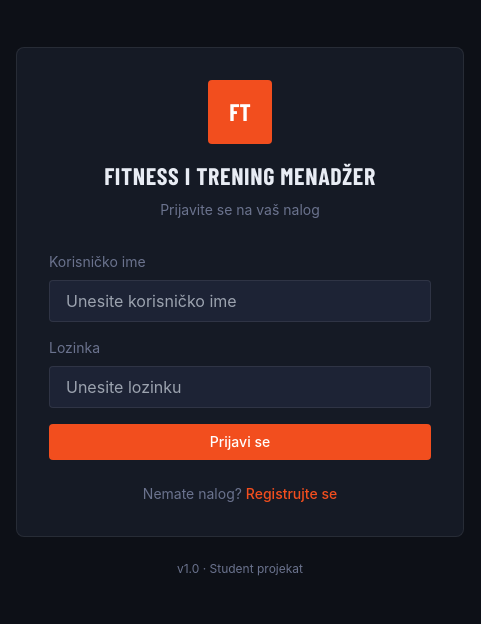
Login Page › shows error message when login fails
The width and height of the screenshot is (481, 624).
Type "testuser" into the field with placeholder "Unesite korisničko ime" at coordinates (240, 301), box [49, 280, 431, 322]
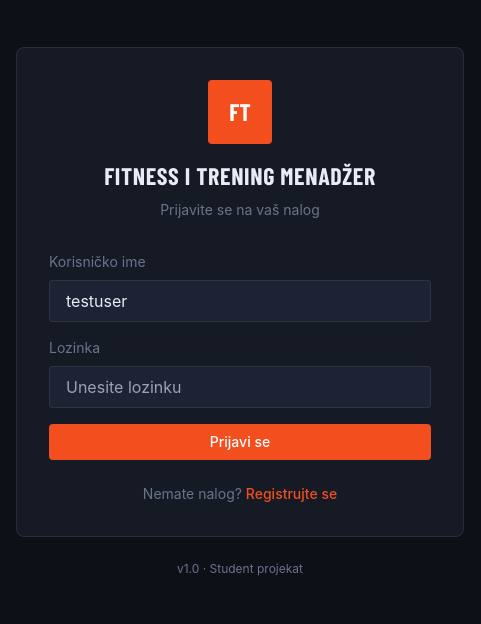
Type "wrongpassword" into the password field with placeholder "Unesite lozinku" at coordinates (240, 387), box [49, 366, 431, 408]
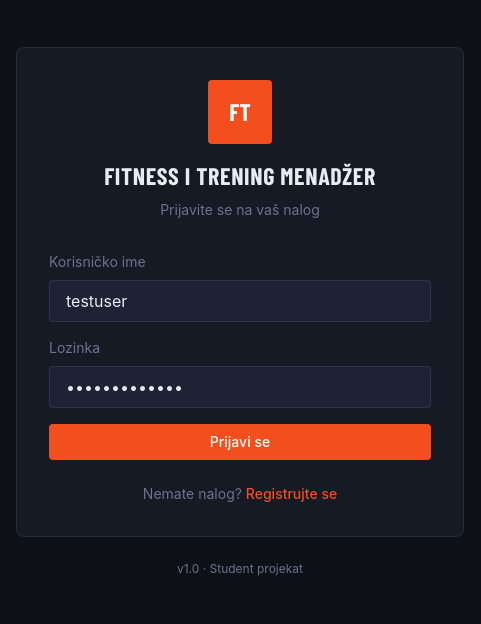
Click the button "Prijavi se" at coordinates (240, 442), box [49, 424, 431, 460]
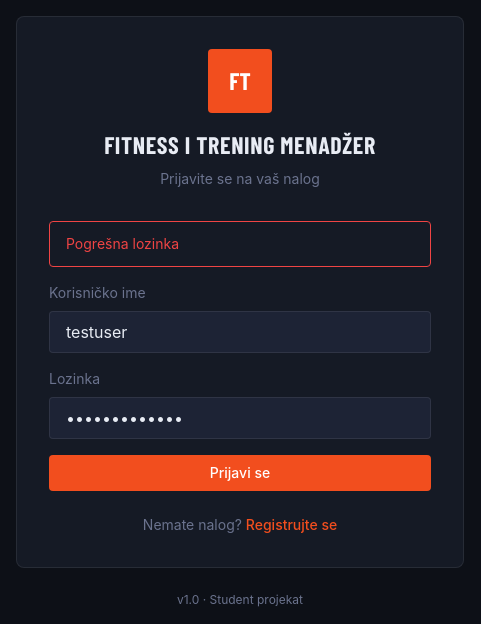
Check: the text "Pogrešna lozinka" is shown, box [49, 221, 431, 267]
